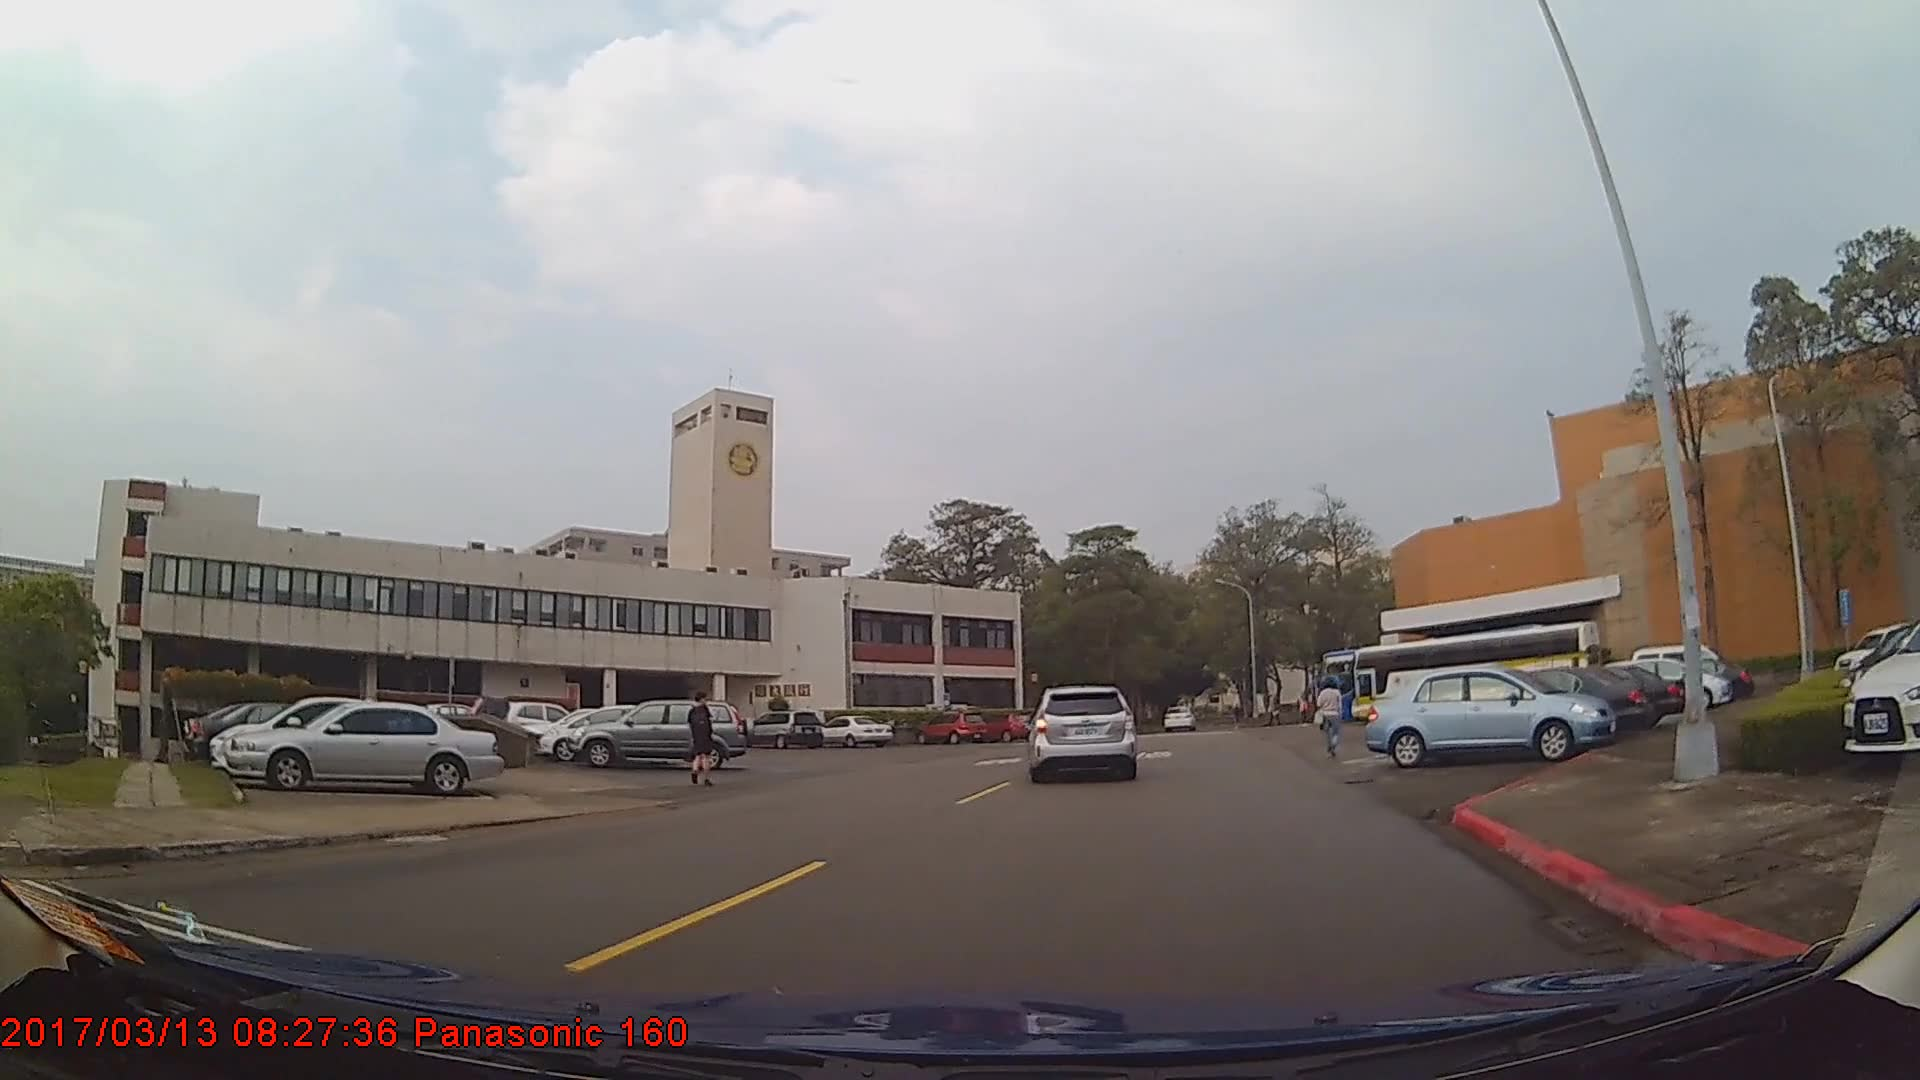pedestrian: (1313, 675, 1349, 762), (688, 693, 717, 788)
vehicle: (223, 698, 504, 794), (1363, 663, 1614, 766), (206, 692, 441, 779), (1432, 665, 1654, 739), (566, 697, 755, 768), (192, 702, 389, 768), (1842, 607, 1920, 750), (1510, 665, 1688, 726), (1028, 682, 1136, 783), (539, 701, 686, 761), (504, 698, 587, 747), (744, 708, 825, 750), (916, 709, 989, 745), (816, 713, 894, 747), (1162, 705, 1197, 733)
